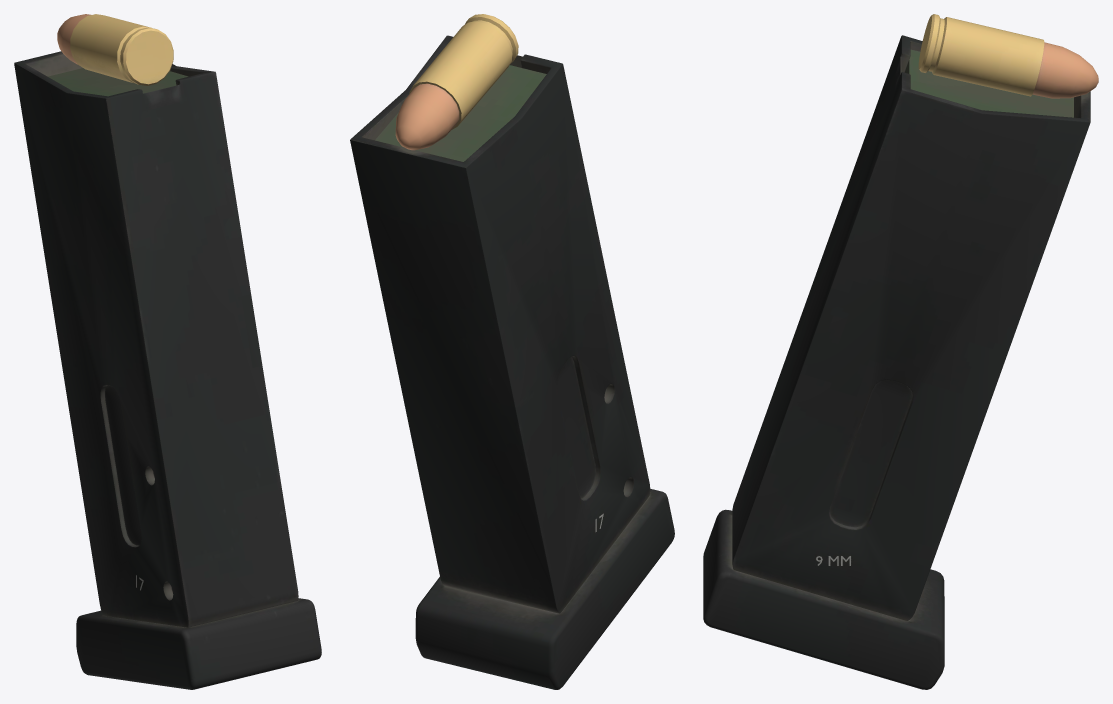
The model's file is carregador_ciclone_17.glb.
3 renders of one model, left to right at view 1: azimuth 30°, elevation 25°; view 2: azimuth 150°, elevation 25°; view 3: azimuth 270°, elevation 25°, orthographic. The views are drawn at different scales.
Visible parts, largest first — view 1: carregador_ciclone_17_carregador; view 2: carregador_ciclone_17_carregador; view 3: carregador_ciclone_17_carregador.
Part boxes in pixels (box(x1,y1,x2,y2)): carregador_ciclone_17_carregador: box(14, 14, 321, 689); carregador_ciclone_17_carregador: box(350, 14, 674, 689); carregador_ciclone_17_carregador: box(703, 14, 1098, 689).
Bounding box in the file's own units: 0.0256 × 0.1171 × 0.0654.
1 material, 1 textured.
